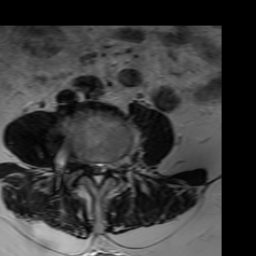CCS_normal: (93, 157, 100, 192)
LFS_normal: (108, 151, 117, 177)
LLS_stenosis: (100, 157, 108, 185)
RFS_severe_stenosis: (77, 149, 85, 174)
RLS_severe_stenosis: (85, 153, 93, 178)
